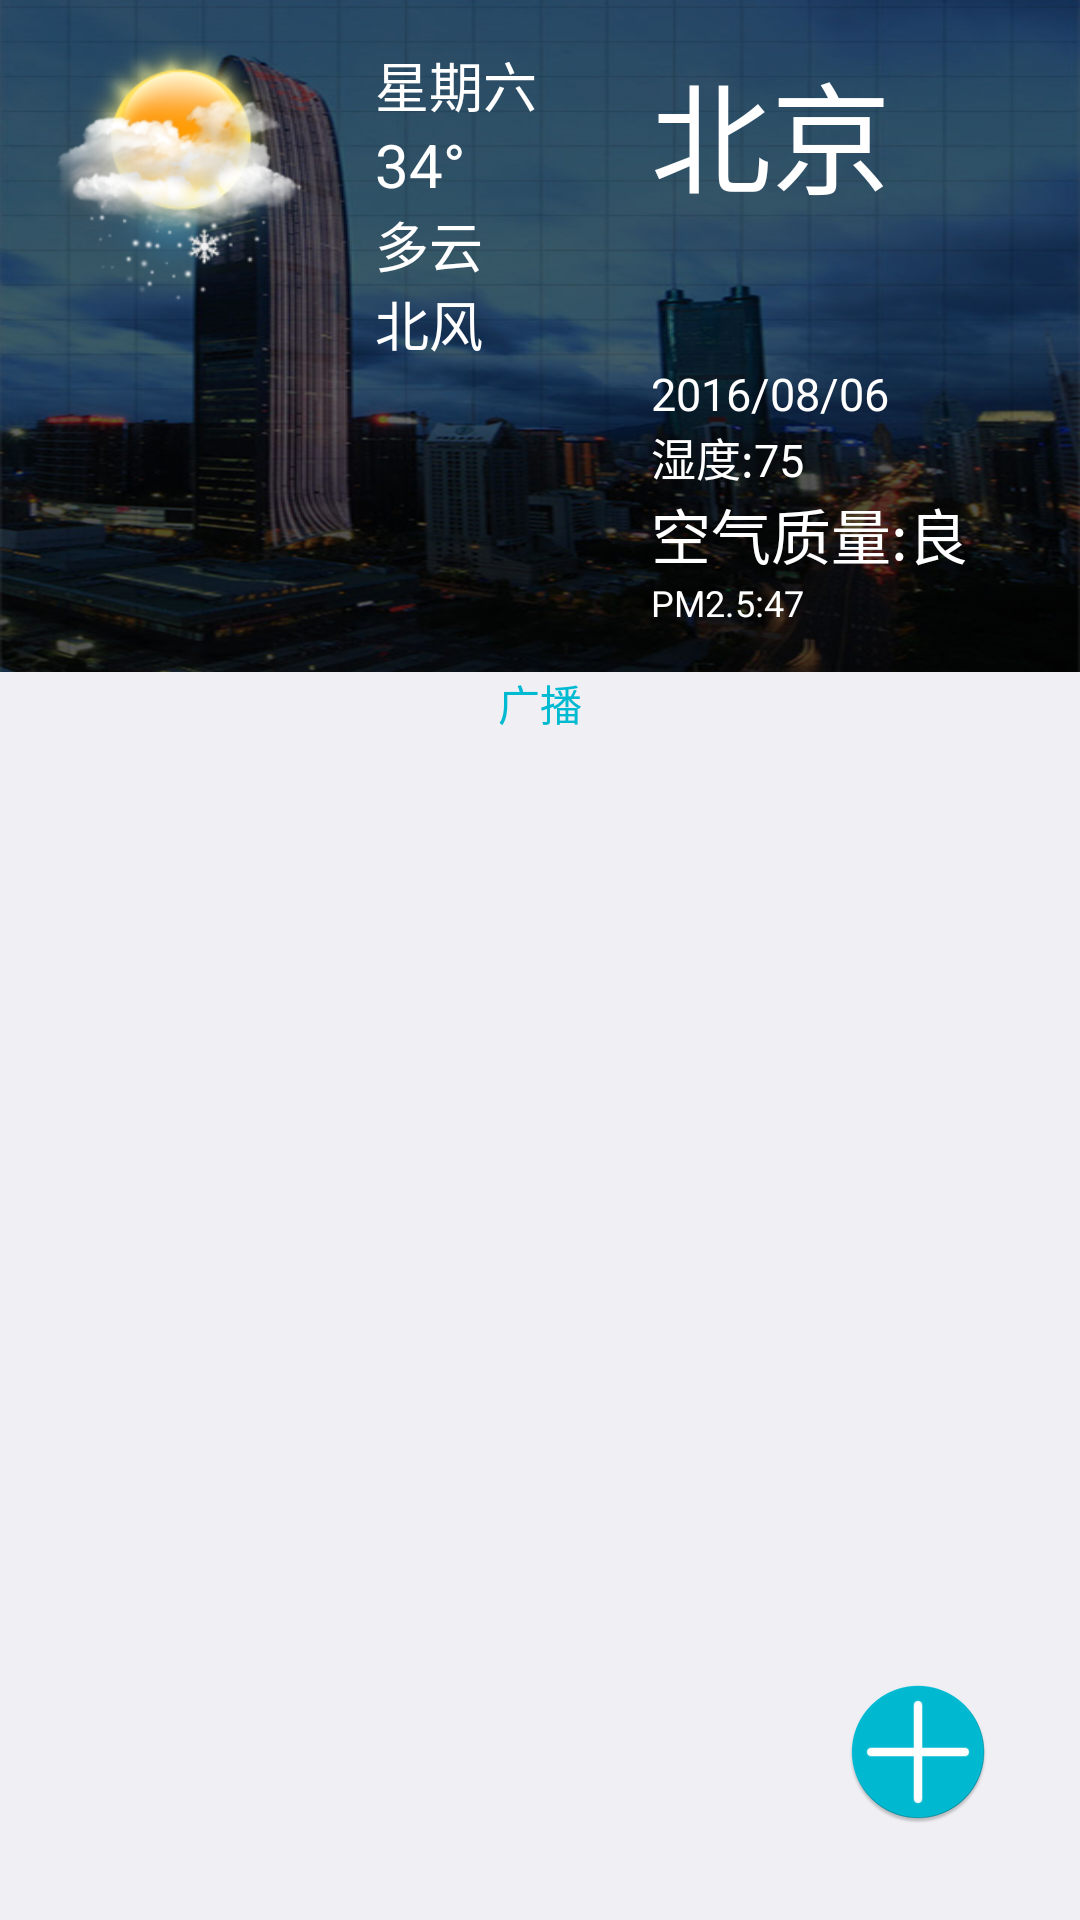

Named icons in this screenshot (1080 × 1920) and their bounding boxes, bbox=(x1, y1, x2, y2):
addnote: bbox=(851, 1685, 985, 1821)
